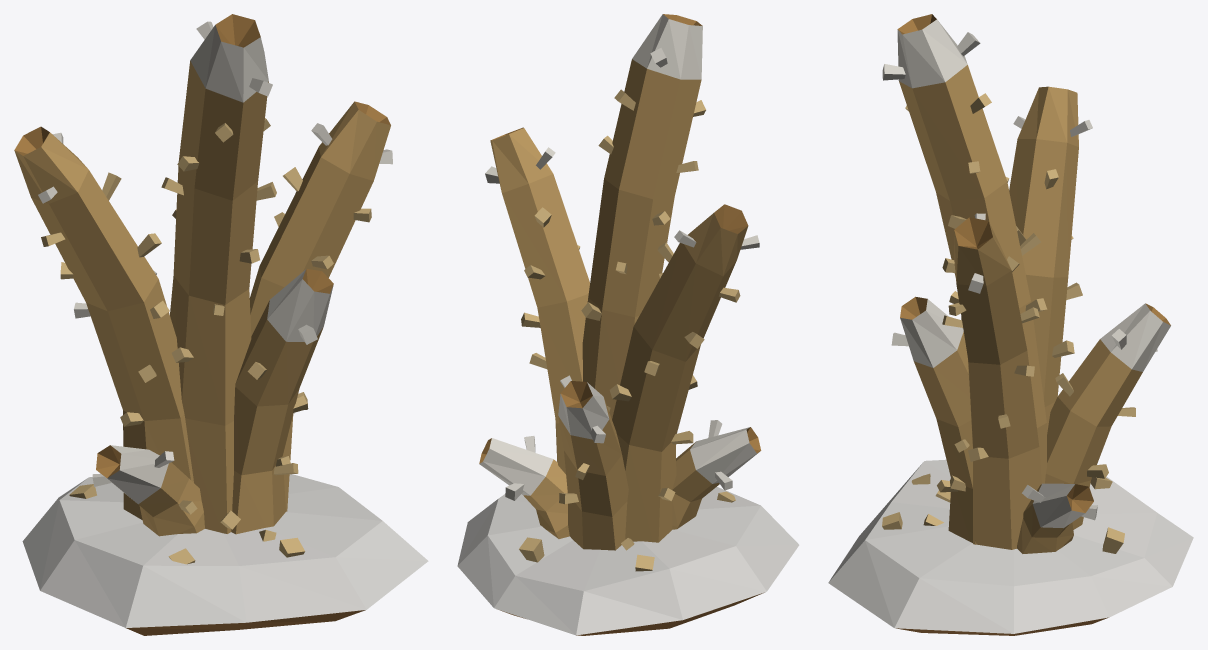
File: pillar-coral-colony-9336e9.glb
3 views of the same model, side by side, from view 1: azimuth 30°, elevation 25°; view 2: azimuth 150°, elevation 25°; view 3: azimuth 270°, elevation 25° (orthographic). The views are drawn at different scales.
Visible parts, largest first — view 1: pillar-coral-colony-shell; view 2: pillar-coral-colony-shell; view 3: pillar-coral-colony-shell.
Part boxes in pixels (x1,y1,x2,y2): pillar-coral-colony-shell: (14, 14, 428, 635); pillar-coral-colony-shell: (457, 14, 799, 635); pillar-coral-colony-shell: (828, 14, 1193, 635).
Size of the model in its own units: 0.2051 by 0.3499 by 0.2104.
